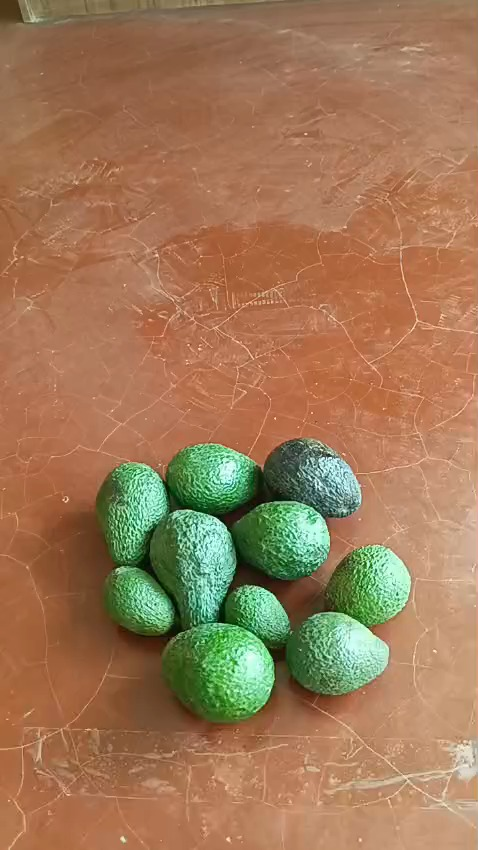Primera: (160, 620, 274, 720), (149, 509, 237, 629), (231, 499, 332, 580), (95, 460, 171, 565), (263, 436, 361, 516), (165, 441, 260, 515)
Segunda: (285, 610, 391, 695), (321, 544, 412, 627)
Tercera: (101, 564, 177, 637), (221, 583, 292, 651)
